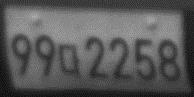2: (109, 36, 132, 82), (84, 36, 108, 80)
5: (132, 37, 158, 82)
8: (156, 39, 181, 83)
9: (33, 33, 57, 78), (9, 34, 32, 79)
다: (57, 42, 81, 79)
